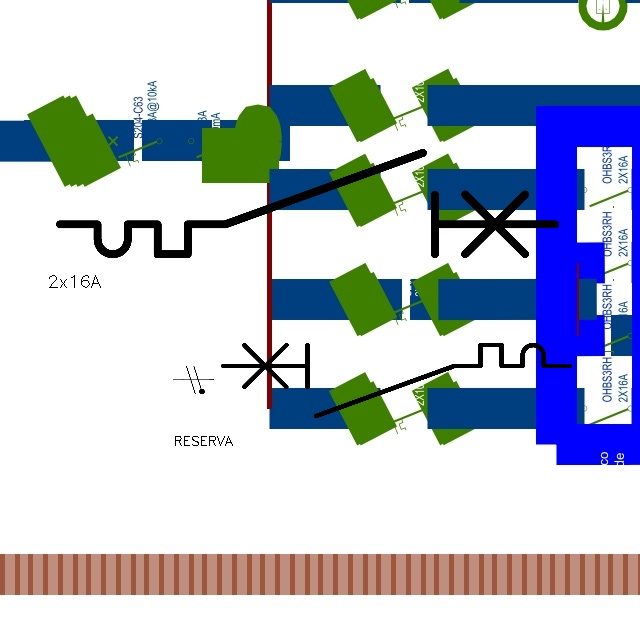interruptor_termomagnetico: (47, 140, 568, 267), (214, 336, 579, 425)
